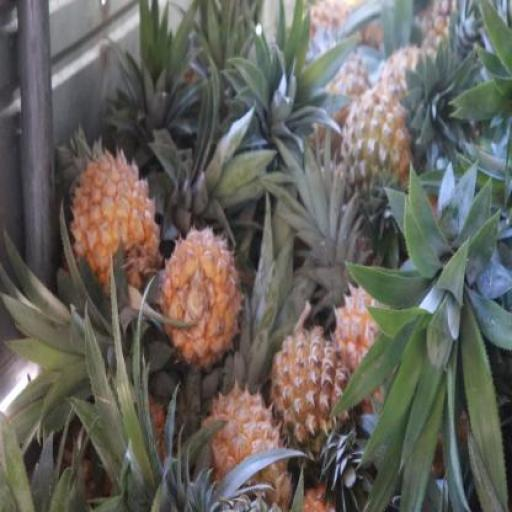Pineapple - v8 v1: (72, 153, 162, 299), (273, 325, 352, 473), (203, 384, 294, 507), (164, 226, 242, 360)
